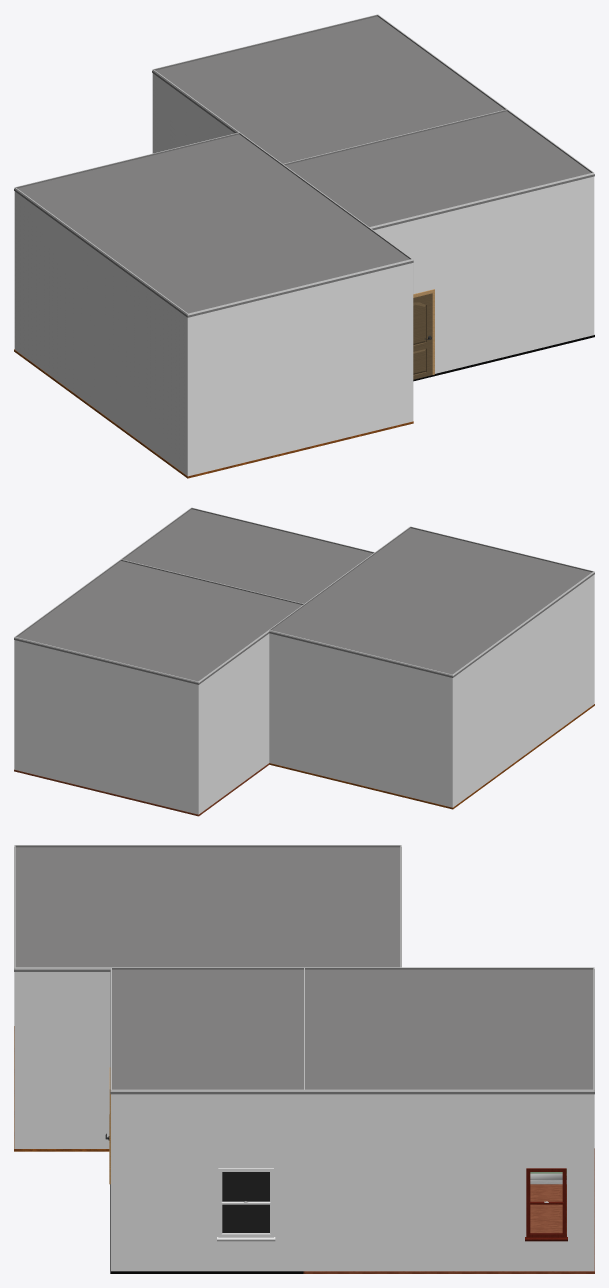
File: ProcTHOR-Train-194.glb
The picture shows the model from 3 angles, top to bottom: view 1: azimuth 30°, elevation 25°; view 2: azimuth 150°, elevation 25°; view 3: azimuth 270°, elevation 25°; orthographic projection. The views are drawn at different scales.
Visible parts, largest first — view 1: Ceiling#room|6|c, WallInside#wall|exterior|5.82|11.65|11.65|11.65, WallInside#wall|exterior|0.00|9.71|5.82|9.71, Ceiling#room|2|c, WallInside#wall|exterior|11.65|3.88|11.65|11.65, Ceiling#room|7|c, WallInside#wall|exterior|5.82|0.00|5.82|3.88, Doorway_6, Floor#room|6|f; view 2: Ceiling#room|6|c, WallInside#wall|exterior|0.00|0.00|5.82|0.00, WallInside#wall|exterior|5.82|3.88|11.65|3.88, Ceiling#room|2|c, WallInside#wall|exterior|11.65|3.88|11.65|11.65, Ceiling#room|7|c, WallInside#wall|exterior|5.82|0.00|5.82|3.88, Floor#room|6|f, Floor#room|2|f; view 3: WallInside#wall|exterior|0.00|0.00|0.00|5.82, Ceiling#room|6|c, Ceiling#room|2|c, WallInside#wall|exterior|0.00|5.82|0.00|9.71, Ceiling#room|7|c, WallInside#wall|exterior|5.82|9.71|5.82|11.65, Floor#room|7|f, Floor#room|2|f, Window_Hung_44x60, Window_Hung_32x60, WallInside#wall|6|11.65|3.88|11.65|11.65, WallInside#wall|2|5.82|0.00|5.82|3.88 (+1 smaller).
Boxes of the visible parts, x1,y1,x2,y2 form: Ceiling#room|6|c: [14, 134, 413, 317]; WallInside#wall|exterior|5.82|11.65|11.65|11.65: [188, 259, 412, 476]; WallInside#wall|exterior|0.00|9.71|5.82|9.71: [370, 173, 594, 373]; Ceiling#room|2|c: [152, 16, 506, 165]; WallInside#wall|exterior|11.65|3.88|11.65|11.65: [14, 187, 187, 476]; Ceiling#room|7|c: [282, 111, 594, 229]; WallInside#wall|exterior|5.82|0.00|5.82|3.88: [152, 69, 238, 153]; Doorway_6: [413, 289, 434, 379]; Floor#room|6|f: [14, 349, 413, 478]; Ceiling#room|6|c: [269, 528, 594, 677]; WallInside#wall|exterior|0.00|0.00|5.82|0.00: [14, 637, 198, 814]; WallInside#wall|exterior|5.82|3.88|11.65|3.88: [269, 630, 452, 807]; Ceiling#room|2|c: [14, 561, 303, 684]; WallInside#wall|exterior|11.65|3.88|11.65|11.65: [453, 571, 594, 807]; Ceiling#room|7|c: [123, 509, 373, 605]; WallInside#wall|exterior|5.82|0.00|5.82|3.88: [198, 630, 269, 814]; Floor#room|6|f: [269, 704, 594, 809]; Floor#room|2|f: [14, 763, 269, 816]; WallInside#wall|exterior|0.00|0.00|0.00|5.82: [304, 1090, 594, 1271]; Ceiling#room|6|c: [14, 847, 401, 971]; Ceiling#room|2|c: [303, 969, 594, 1094]; WallInside#wall|exterior|0.00|5.82|0.00|9.71: [111, 1090, 304, 1271]; Ceiling#room|7|c: [110, 969, 305, 1094]; WallInside#wall|exterior|5.82|9.71|5.82|11.65: [14, 967, 110, 1148]; Floor#room|7|f: [110, 1172, 304, 1273]; Floor#room|2|f: [303, 1148, 594, 1273]; Window_Hung_44x60: [217, 1168, 275, 1241]; Window_Hung_32x60: [525, 1168, 567, 1241]; WallInside#wall|6|11.65|3.88|11.65|11.65: [15, 845, 401, 847]; WallInside#wall|2|5.82|0.00|5.82|3.88: [401, 967, 594, 969].
Size of what is drawn, in the model's own units: 11.79 by 4.07 by 11.69.
215 materials, 85 textured.
